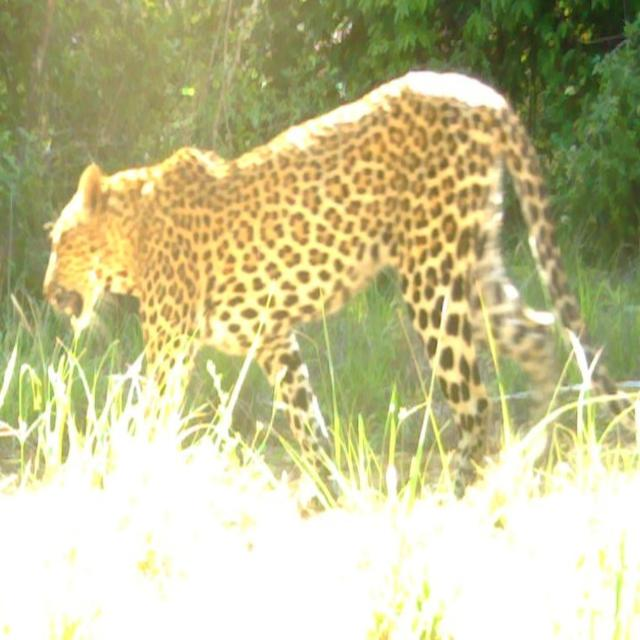Leopard: (36, 94, 634, 523)
